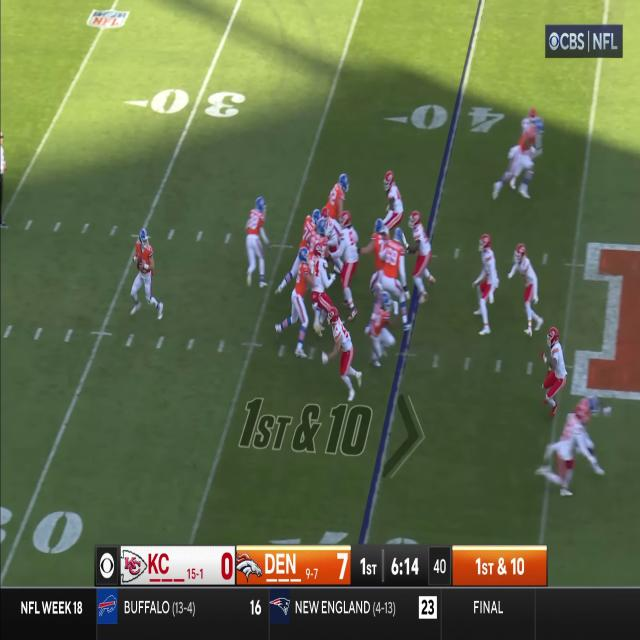Player: (554, 397, 590, 496), (326, 305, 354, 402), (512, 118, 543, 202), (473, 236, 499, 336), (511, 242, 538, 336), (337, 210, 359, 322), (290, 250, 311, 359), (408, 208, 432, 303), (542, 322, 566, 417), (245, 197, 268, 290), (130, 228, 156, 308), (369, 290, 394, 367), (312, 247, 331, 336), (383, 229, 406, 294), (382, 168, 403, 231), (325, 171, 350, 215), (371, 218, 385, 284), (299, 208, 319, 248)
